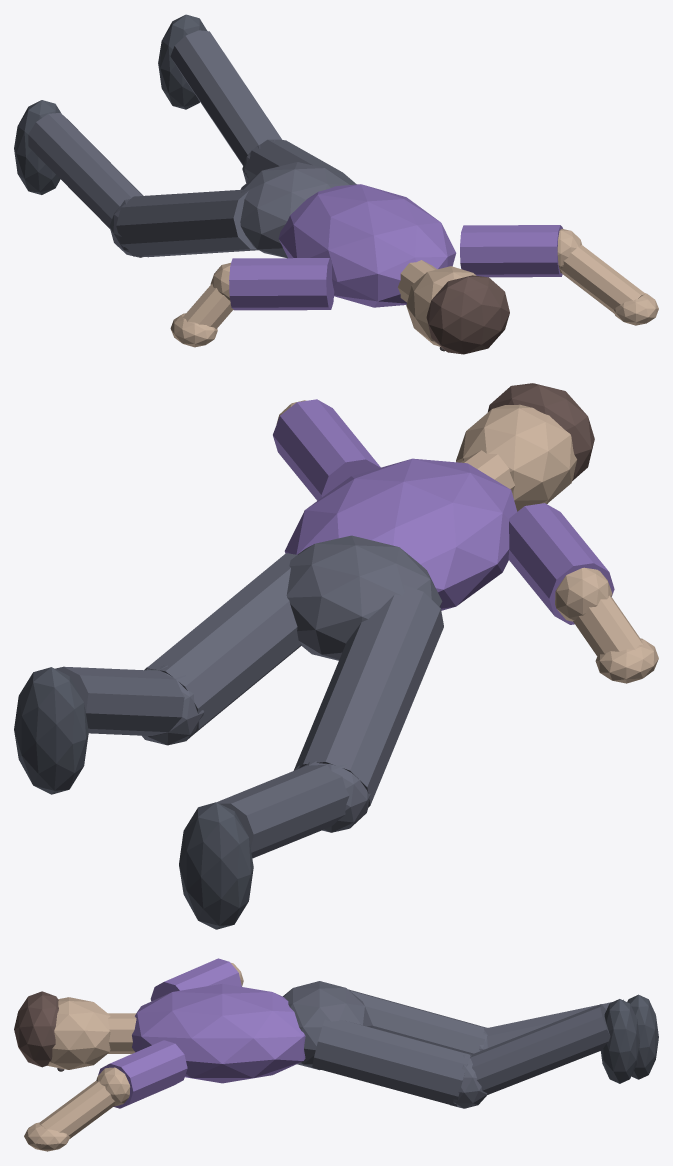
The picture shows the model from 3 angles, top to bottom: view 1: azimuth 30°, elevation 25°; view 2: azimuth 150°, elevation 25°; view 3: azimuth 270°, elevation 25°; orthographic projection. The views are drawn at different scales.
Parts seen in each view (by area): view 1: world; view 2: world; view 3: world.
Part boxes in pixels (x1=…): world: x1=14, y1=14, x2=658, y2=354; world: x1=14, y1=383, x2=658, y2=929; world: x1=14, y1=958, x2=658, y2=1151.
Bounding box in the file's own units: 1.25 × 0.4905 × 2.06.
